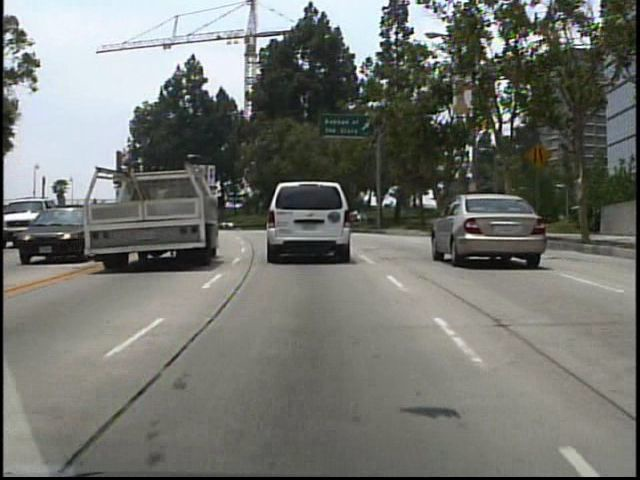person: (449, 193, 468, 234)
